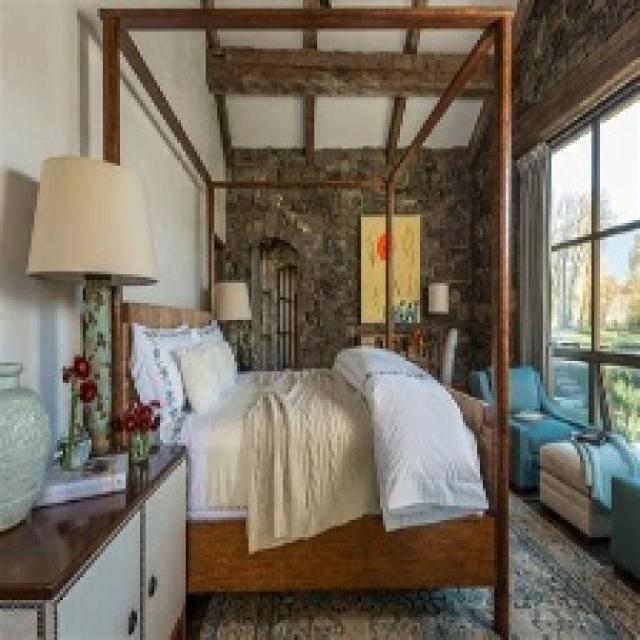Bed: (111, 297, 508, 637)
